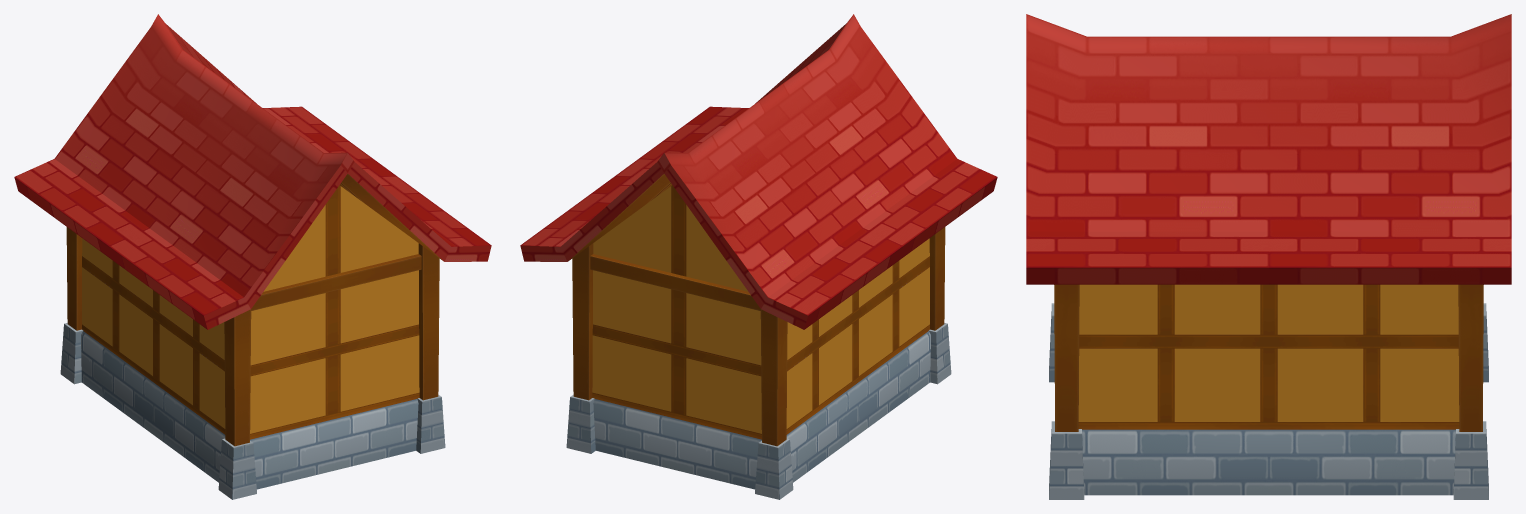
Rendered from HOS0310002.fbx.
3 renders of one model, left to right at view 1: azimuth 30°, elevation 25°; view 2: azimuth 150°, elevation 25°; view 3: azimuth 270°, elevation 25°, orthographic. The views are drawn at different scales.
Visible parts, largest first — view 1: smHOS0310002; view 2: smHOS0310002; view 3: smHOS0310002.
Boxes of the visible parts, x1=… form: smHOS0310002: x1=14, y1=14, x2=491, y2=499; smHOS0310002: x1=520, y1=14, x2=997, y2=499; smHOS0310002: x1=1026, y1=14, x2=1511, y2=499.
Bounding box in the file's own units: 337 × 367 × 384.
Materials: 1 (1 with a texture image).
